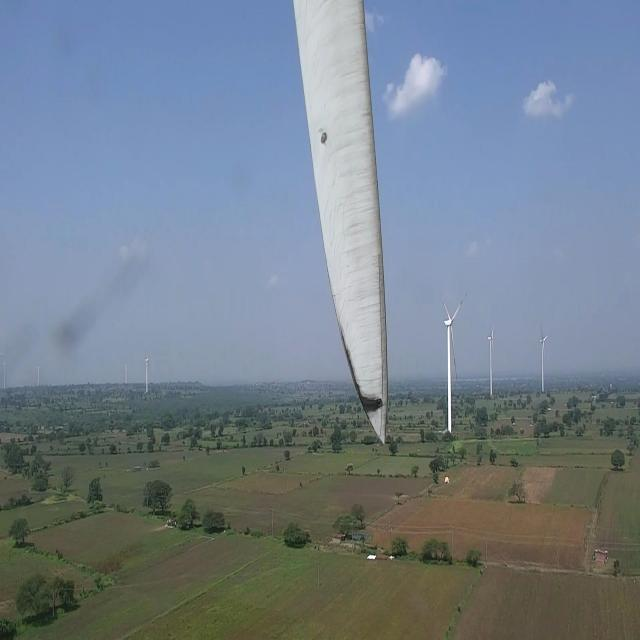oil_leakage: (338, 325, 383, 420)
